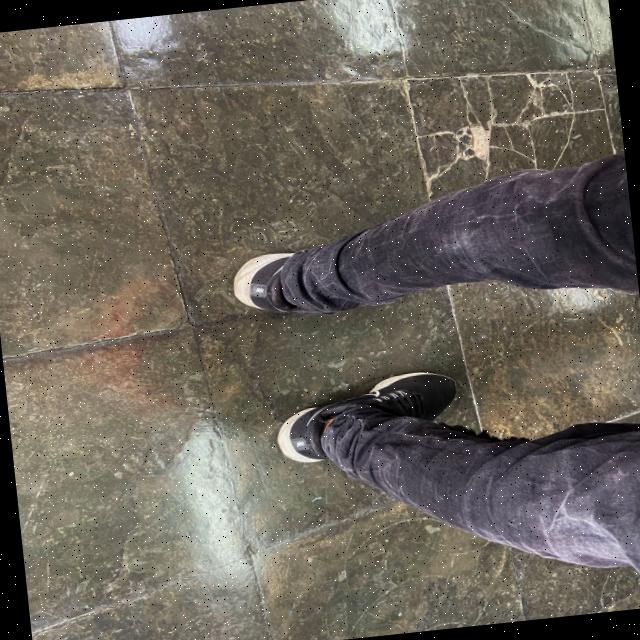SEM BOTA: (276, 372, 463, 463), (234, 243, 419, 316)
